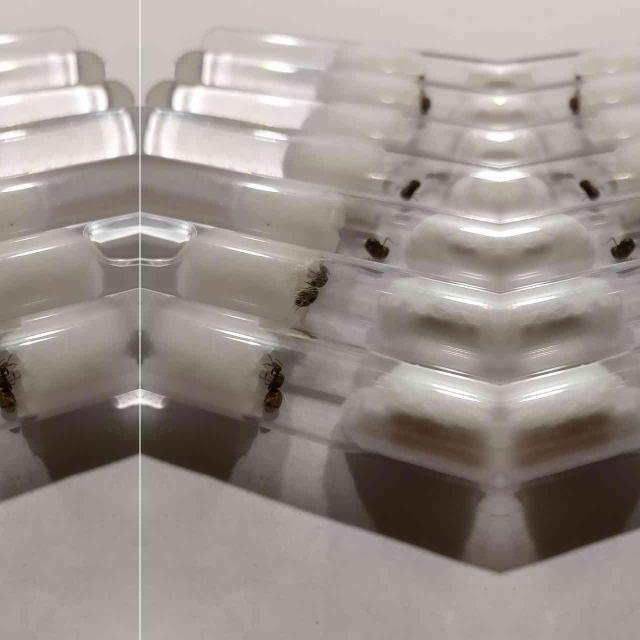Lasius: (287, 263, 333, 321), (263, 352, 285, 416), (390, 167, 428, 201), (572, 167, 610, 201), (362, 226, 396, 262), (604, 226, 638, 262), (0, 350, 16, 415)
